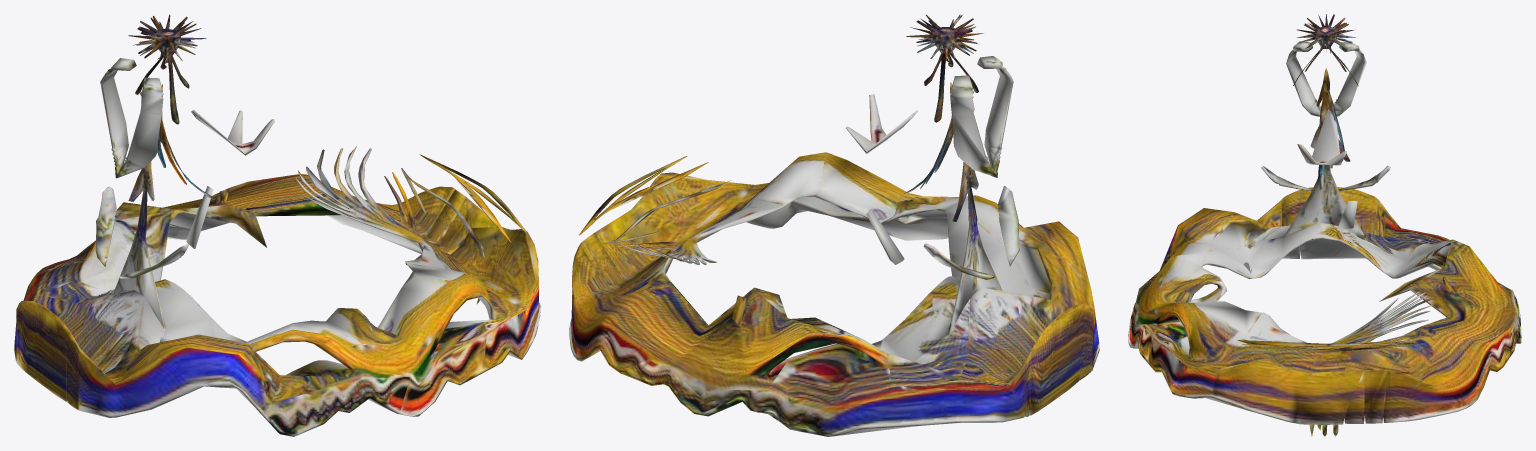
3 renders of one model, left to right at view 1: azimuth 30°, elevation 25°; view 2: azimuth 150°, elevation 25°; view 3: azimuth 270°, elevation 25°, orthographic. The views are drawn at different scales.
Parts seen in each view (by area): view 1: node_0; view 2: node_0; view 3: node_0.
Part boxes in pixels (<box>): node_0: <box>14,14,540,436</box>; node_0: <box>569,14,1099,436</box>; node_0: <box>1128,14,1521,436</box>.
Bounding box in the file's own units: 0.9533 × 0.722 × 0.9012.
Materials: 1 (1 with a texture image).
